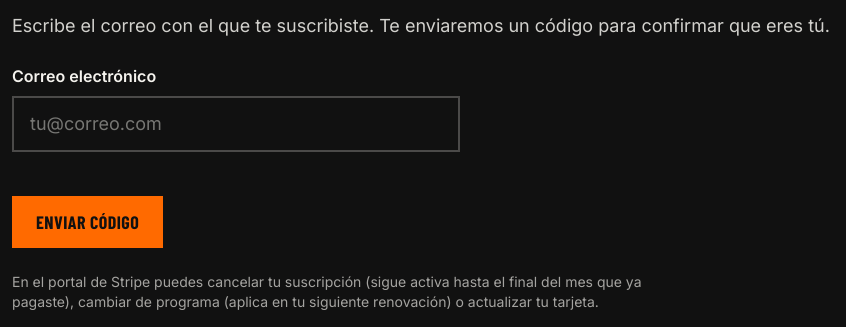
Test case: Administrar mi suscripción (RF-19, DECISIONS A33) › valida el correo antes de pedir el código
Type "sofia" into the field labelled "Correo electrónico" at point(236, 124), box [12, 96, 460, 152]
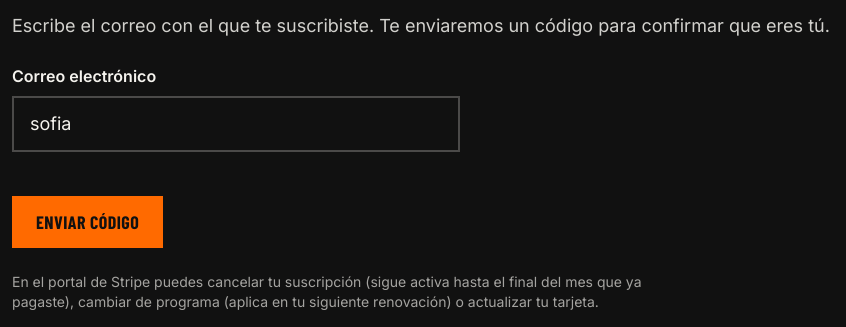
Click the button "Enviar código" at point(88, 222), box [12, 196, 163, 248]
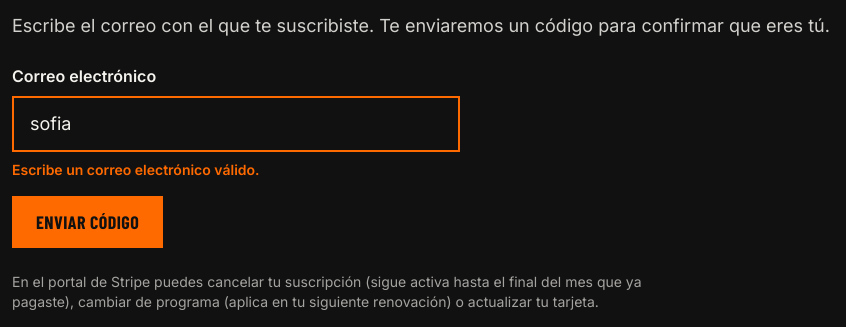
Expected: the text "Escribe un correo electrónico válido." is shown, [12, 161, 260, 178]
